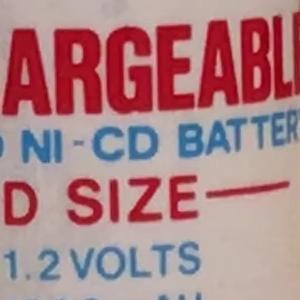keyword: (11, 116, 163, 173)
